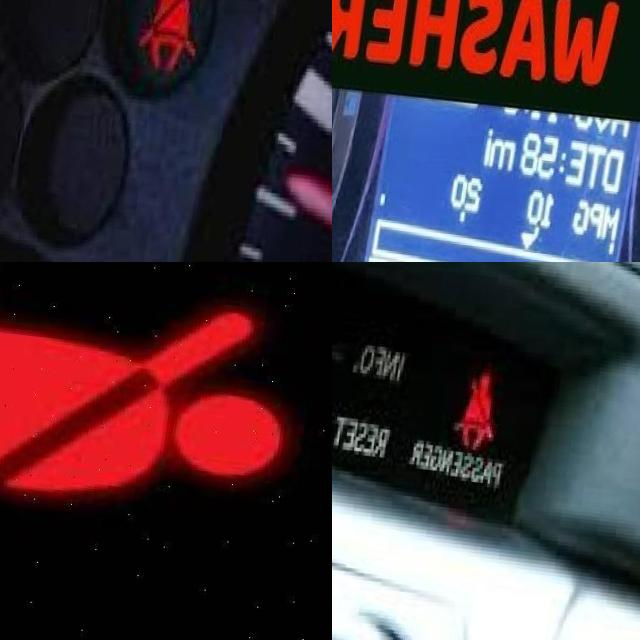Seat Belt: (0, 262, 311, 619), (144, 0, 217, 69), (463, 355, 512, 443)
